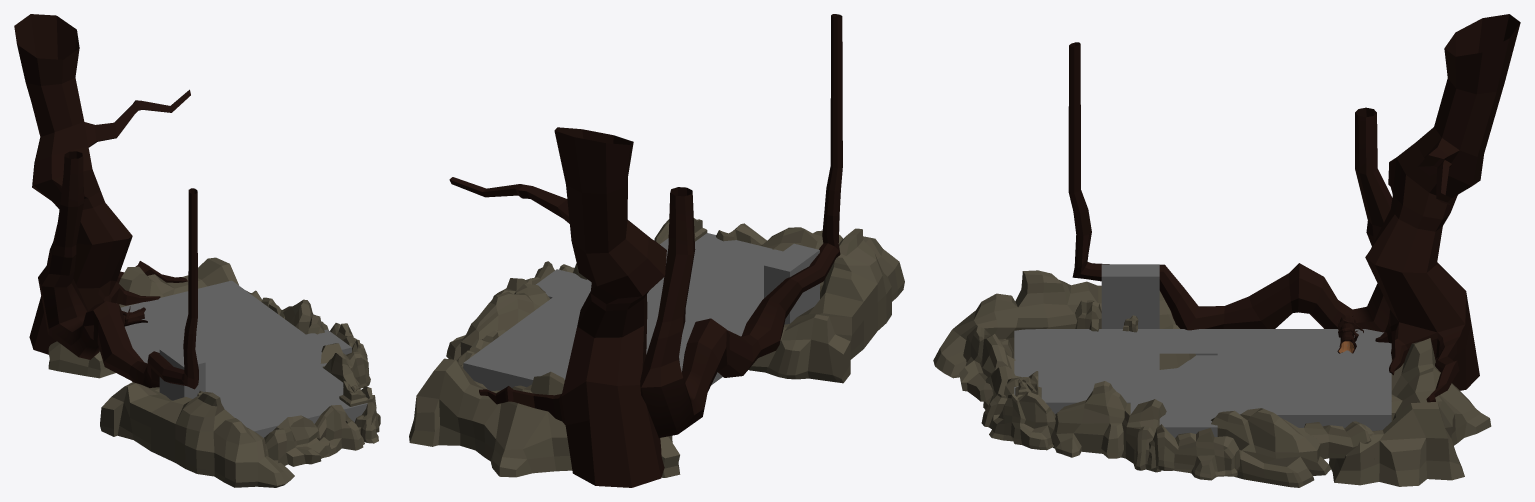
The model's file is water-platform and 2 modify obstacle model.FBX.
3 views of the same model, side by side, from view 1: azimuth 30°, elevation 25°; view 2: azimuth 150°, elevation 25°; view 3: azimuth 270°, elevation 25° (orthographic). The views are drawn at different scales.
Parts seen in each view (by area): view 1: Tree2, Rock1, Base, BrokenStone; view 2: Tree2, Rock1, Base; view 3: Rock1, Tree2, Base, Log.
Part boxes in pixels (bbox=[...]): Tree2: bbox=[14, 14, 198, 389]; Rock1: bbox=[48, 257, 380, 487]; Base: bbox=[99, 280, 367, 437]; BrokenStone: bbox=[339, 381, 368, 406]; Tree2: bbox=[449, 14, 842, 487]; Rock1: bbox=[409, 219, 904, 477]; Base: bbox=[463, 233, 819, 390]; Rock1: bbox=[933, 270, 1491, 487]; Tree2: bbox=[1068, 14, 1520, 402]; Base: bbox=[1014, 264, 1391, 437]; Log: bbox=[1336, 313, 1363, 353].
Size of the model in its own units: 130 by 138 by 202.
